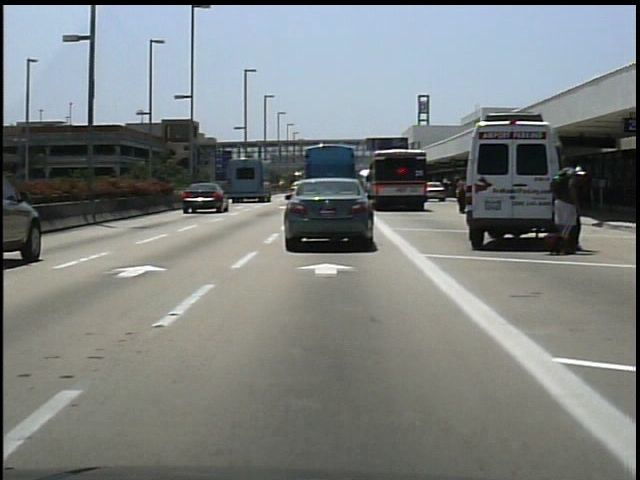person: (549, 157, 581, 258), (573, 167, 585, 253)
